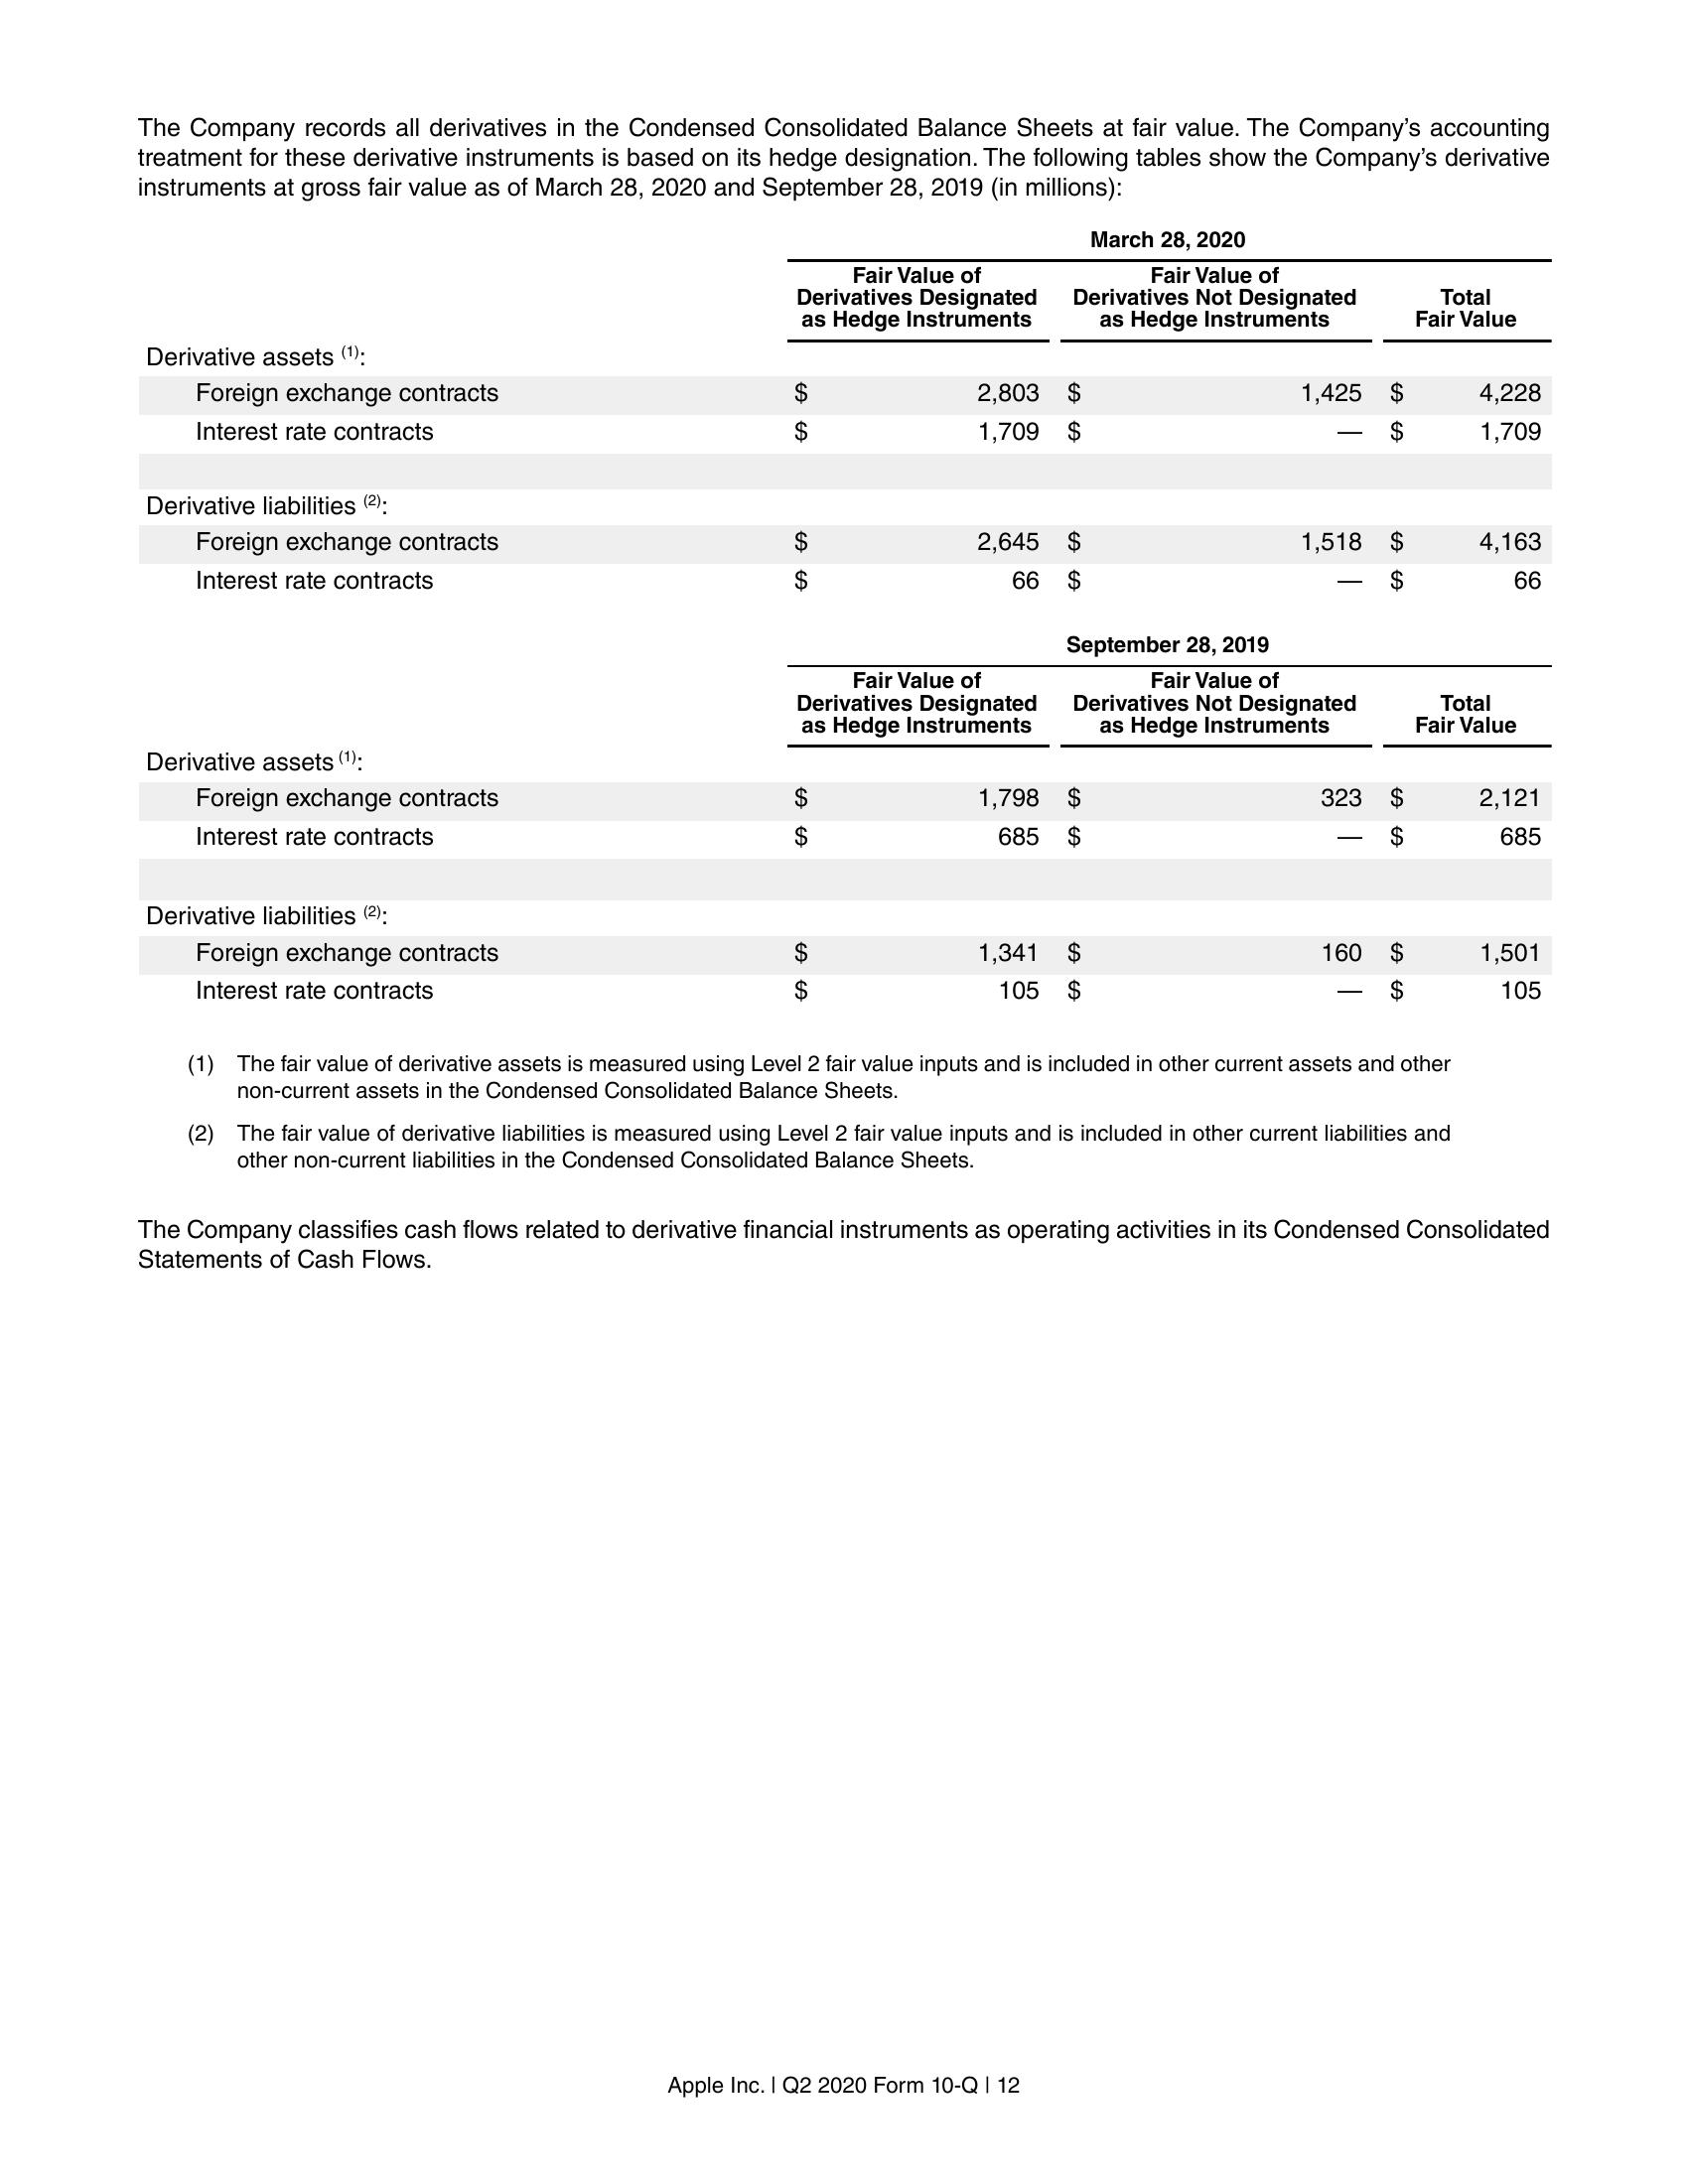table: (138, 222, 1559, 603), (137, 631, 1551, 1007)
